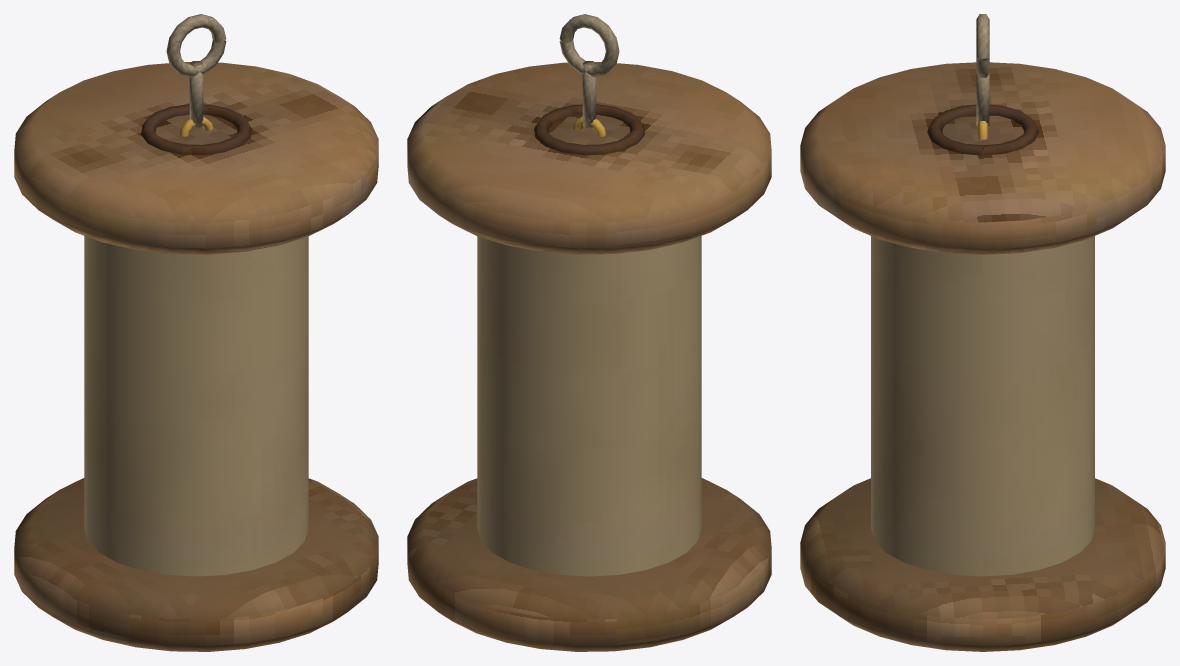
File: lantern_spool.glb
3 views of the same model, side by side, from view 1: azimuth 30°, elevation 25°; view 2: azimuth 150°, elevation 25°; view 3: azimuth 270°, elevation 25° (orthographic).
Visible parts, largest first — view 1: prop_lantern_spool_wood, prop_lantern_spool_paper, prop_lantern_spool_felt; view 2: prop_lantern_spool_wood, prop_lantern_spool_paper, prop_lantern_spool_felt; view 3: prop_lantern_spool_wood, prop_lantern_spool_paper, prop_lantern_spool_felt.
Boxes of the visible parts, x1=… form: prop_lantern_spool_wood: x1=14, y1=62, x2=378, y2=651; prop_lantern_spool_paper: x1=84, y1=236, x2=308, y2=576; prop_lantern_spool_felt: x1=166, y1=14, x2=226, y2=127; prop_lantern_spool_wood: x1=407, y1=62, x2=771, y2=651; prop_lantern_spool_paper: x1=477, y1=236, x2=701, y2=576; prop_lantern_spool_felt: x1=559, y1=14, x2=619, y2=127; prop_lantern_spool_wood: x1=800, y1=62, x2=1165, y2=651; prop_lantern_spool_paper: x1=871, y1=236, x2=1094, y2=576; prop_lantern_spool_felt: x1=976, y1=14, x2=989, y2=126.
Size of the model in its own units: 0.15 by 0.2561 by 0.15.
4 materials, 3 textured.
